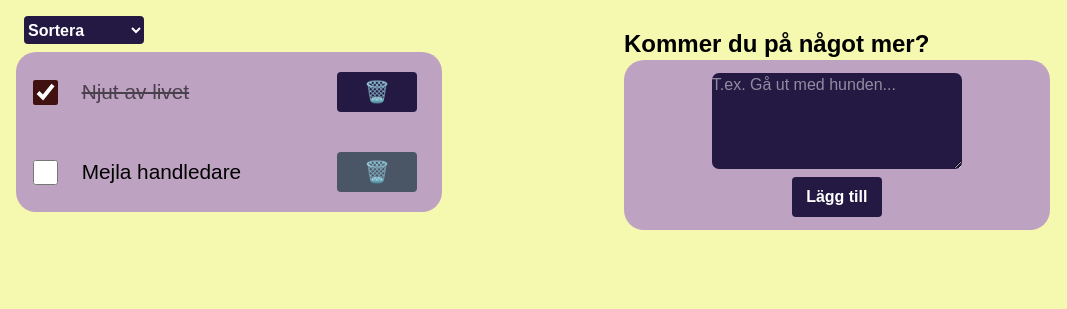
template spec › User can add new todo
Expected: the number of list items is 2, [33,72,417,112]; [33,152,417,192]
In the text box with placeholder "T.ex. Gå ut med hunden...": [837, 121] box [712,73,962,169], type "Plocka svamp"
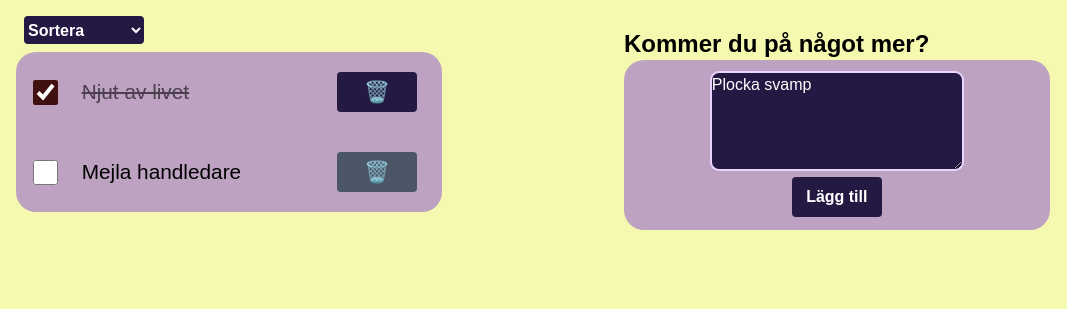
Click the button "Lägg till": [837, 197] box [792,177,882,217]
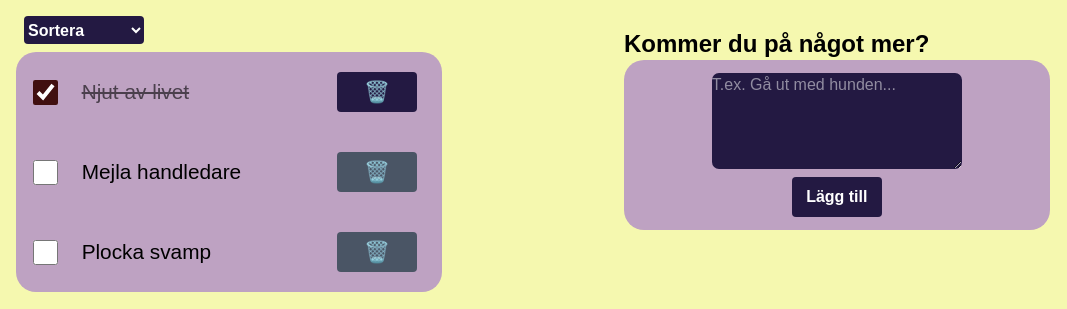
Expected: the number of list items is 3, [33,72,417,112]; [33,152,417,192]; [33,232,417,272]
Expected: the text "Plocka svamp" is shown, [82,240,211,263]
